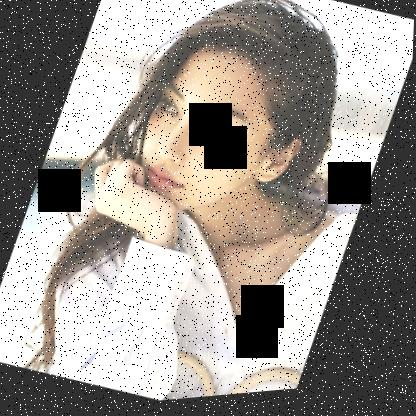Female: (121, 30, 329, 248)
